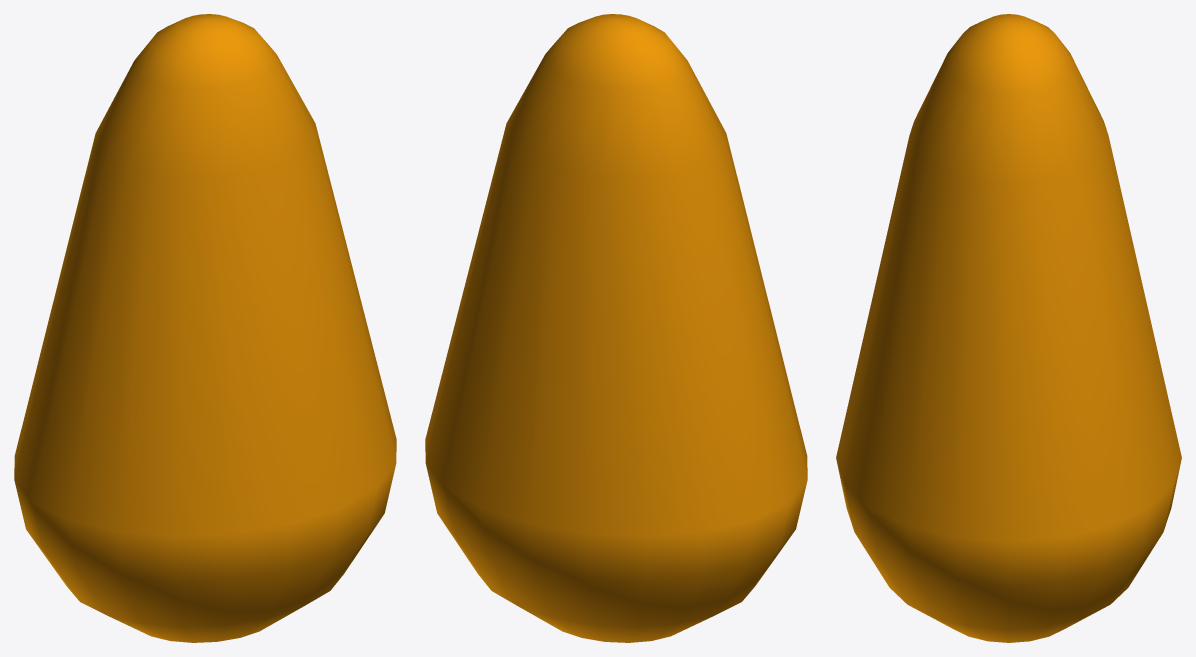
The model's file is candycorn.fbx.
The picture shows the model from 3 angles, left to right: view 1: azimuth 30°, elevation 25°; view 2: azimuth 150°, elevation 25°; view 3: azimuth 270°, elevation 25°; orthographic projection.
Parts seen in each view (by area): view 1: candy_corn; view 2: candy_corn; view 3: candy_corn.
Boxes of the visible parts, x1,y1,x2,y2 form: candy_corn: (14, 14, 396, 642); candy_corn: (425, 14, 807, 642); candy_corn: (836, 14, 1181, 642).
Size of the model in its own units: 1.94 by 3.25 by 1.69.
